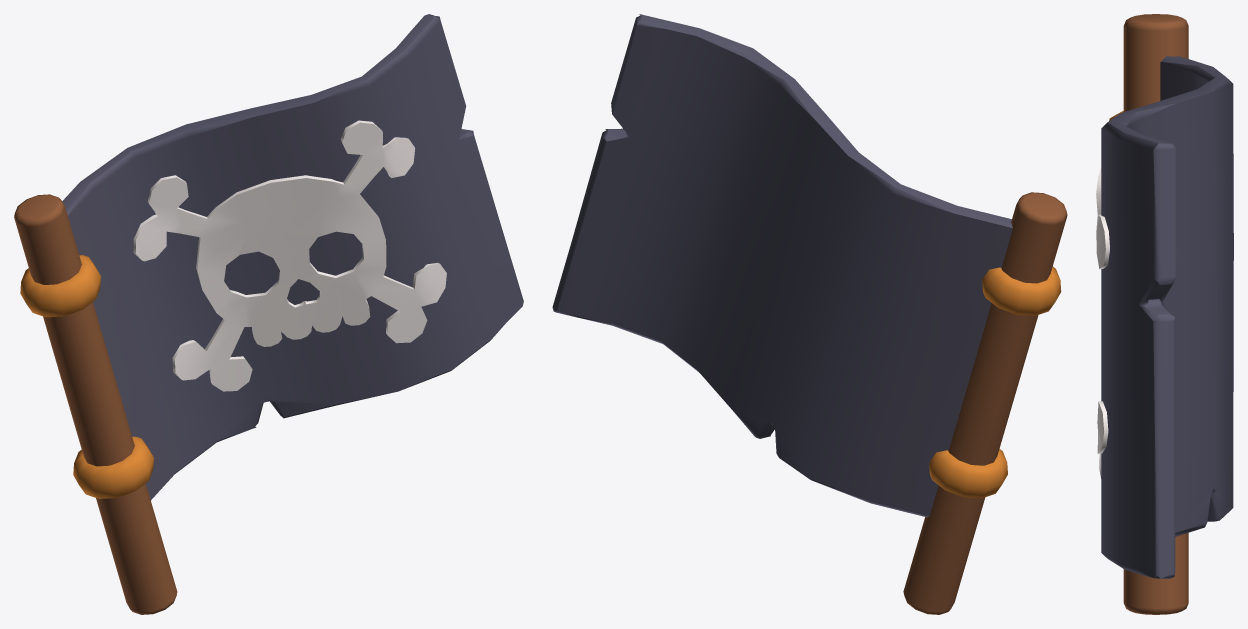
3 views of the same model, side by side, from view 1: azimuth 30°, elevation 25°; view 2: azimuth 150°, elevation 25°; view 3: azimuth 270°, elevation 25° (orthographic). The views are drawn at different scales.
Visible parts, largest first — view 1: model_1.053; view 2: model_1.053; view 3: model_1.053.
Part boxes in pixels (x1,y1,x2,y2): model_1.053: (14,14,523,614); model_1.053: (552,14,1067,614); model_1.053: (1096,14,1233,614).
Bounding box in the file's own units: 5.22 × 5.14 × 0.9959.
